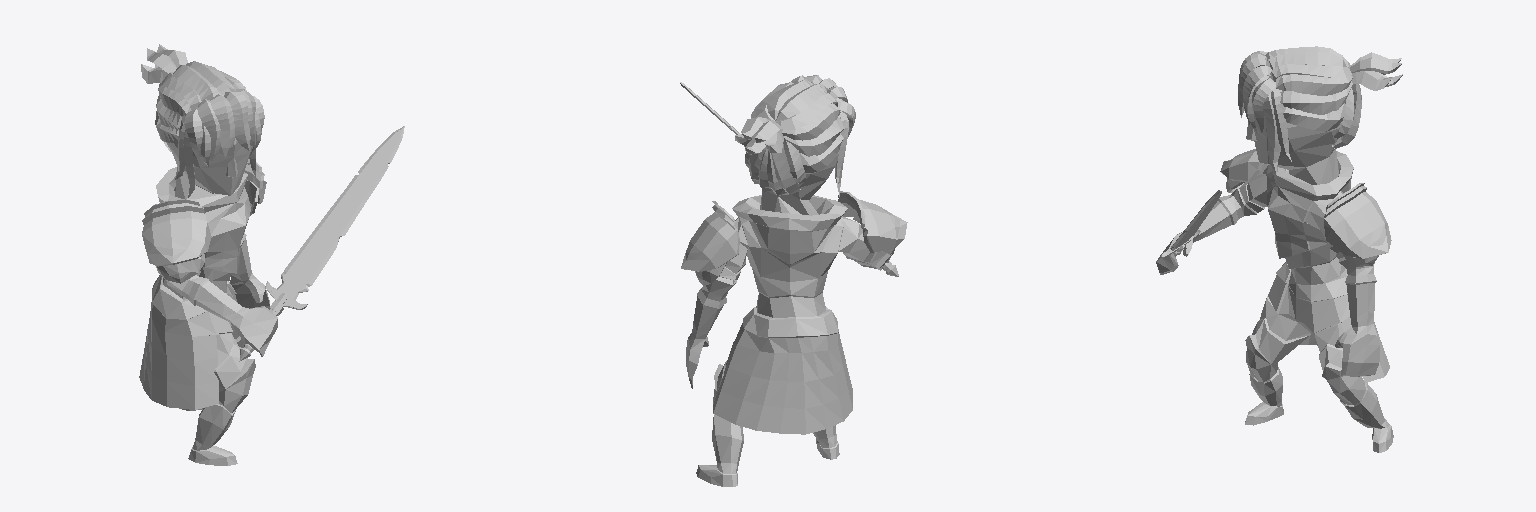
The picture shows the model from 3 angles: view 1: azimuth 30°, elevation 25°; view 2: azimuth 150°, elevation 25°; view 3: azimuth 270°, elevation 25°; orthographic projection.
Parts seen in each view (by area): view 1: Warrior.002__ncl1_29.005, Face__ncl1_29.002, Warrior_Sword_Cylinder.001, Shoulder.R__ncl1_29.001, Shoulder.L__ncl1_29.000; view 2: Warrior.002__ncl1_29.005, Face__ncl1_29.002, Shoulder.L__ncl1_29.000, Shoulder.R__ncl1_29.001; view 3: Warrior.002__ncl1_29.005, Face__ncl1_29.002, Shoulder.L__ncl1_29.000, Shoulder.R__ncl1_29.001, Warrior_Sword_Cylinder.001.
Boxes of the visible parts, x1=… form: Warrior.002__ncl1_29.005: x1=139, y1=138, x2=277, y2=465; Face__ncl1_29.002: x1=141, y1=44, x2=264, y2=197; Warrior_Sword_Cylinder.001: x1=239, y1=126, x2=404, y2=361; Shoulder.R__ncl1_29.001: x1=142, y1=199, x2=211, y2=283; Shoulder.L__ncl1_29.000: x1=244, y1=159, x2=266, y2=215; Warrior.002__ncl1_29.005: x1=686, y1=118, x2=892, y2=486; Face__ncl1_29.002: x1=735, y1=75, x2=855, y2=196; Shoulder.L__ncl1_29.000: x1=681, y1=201, x2=739, y2=285; Shoulder.R__ncl1_29.001: x1=838, y1=191, x2=907, y2=254; Warrior.002__ncl1_29.005: x1=1156, y1=111, x2=1393, y2=452; Face__ncl1_29.002: x1=1238, y1=46, x2=1402, y2=174; Shoulder.L__ncl1_29.000: x1=1324, y1=183, x2=1391, y2=266; Shoulder.R__ncl1_29.001: x1=1220, y1=149, x2=1267, y2=192; Warrior_Sword_Cylinder.001: x1=1161, y1=190, x2=1221, y2=257.
Bounding box in the file's own units: 1.87 × 2.81 × 1.69.